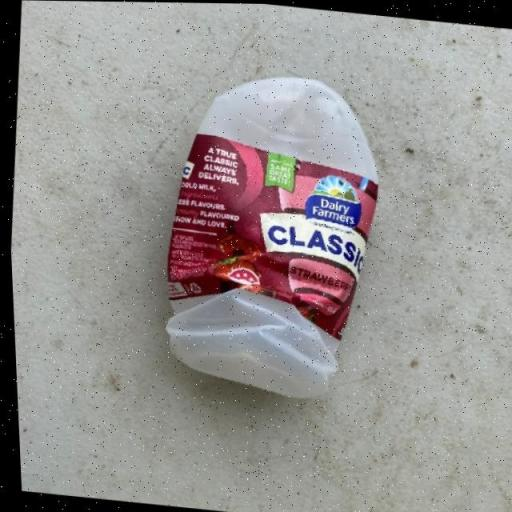plastic: (146, 62, 394, 404)
